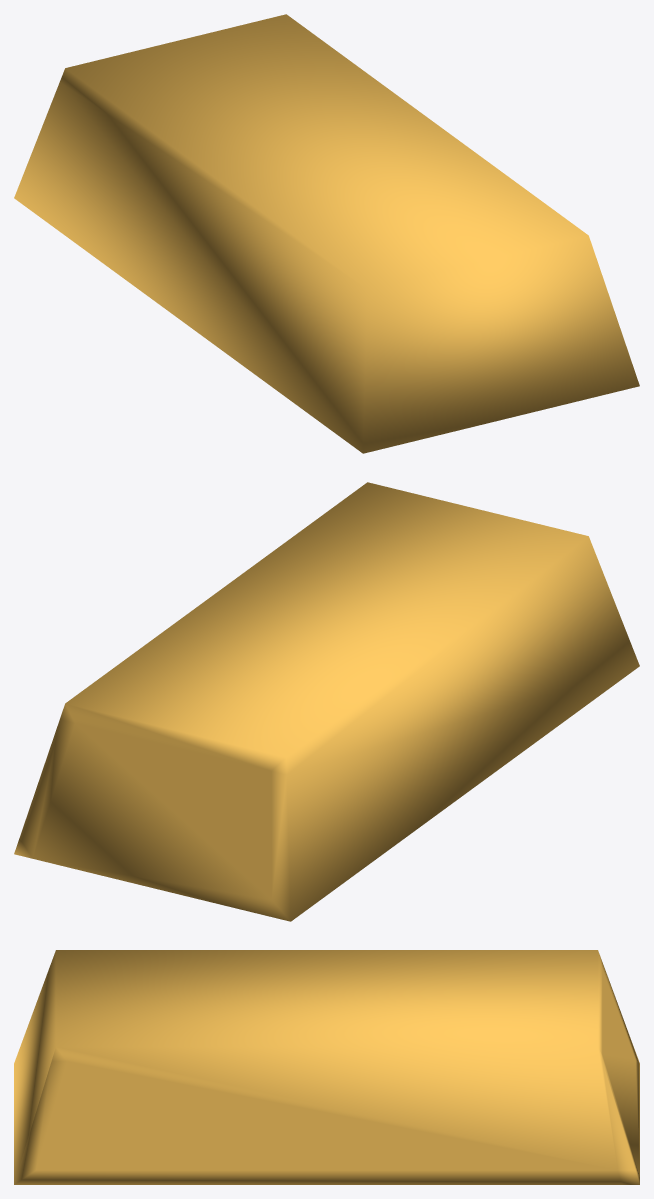
The model's file is goldbar.glb.
3 renders of one model, top to bottom at view 1: azimuth 30°, elevation 25°; view 2: azimuth 150°, elevation 25°; view 3: azimuth 270°, elevation 25°, orthographic. The views are drawn at different scales.
Visible parts, largest first — view 1: Object_2; view 2: Object_2; view 3: Object_2.
Boxes of the visible parts, x1,y1,x2,y2 form: Object_2: (14,14,639,453); Object_2: (14,482,639,921); Object_2: (14,950,639,1184).
Size of the model in its own units: 6.32 by 3.06 by 13.81.
1 material, 1 textured.
